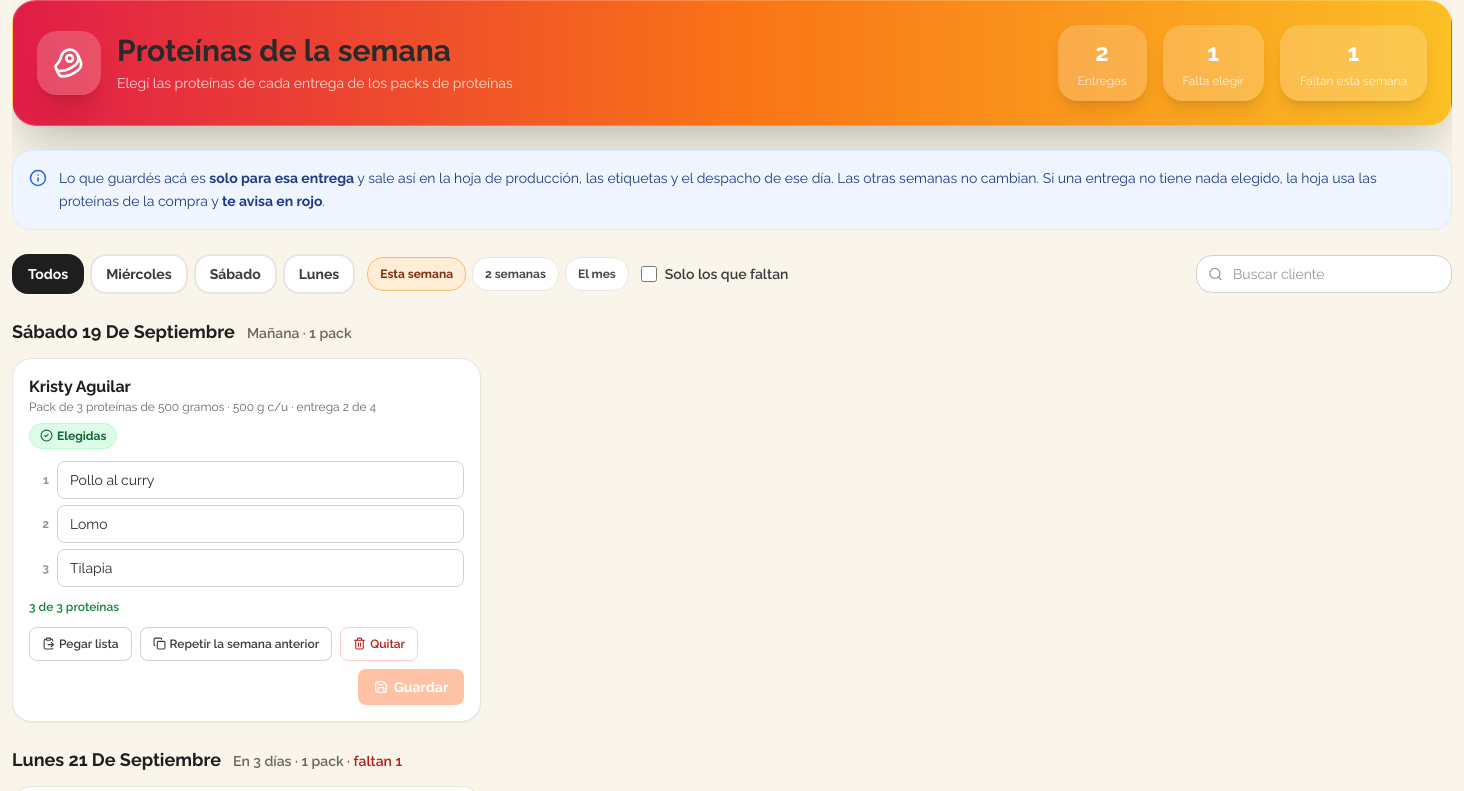
Test case: Proteínas de la semana › si Firestore falla, lo dice en la tarjeta
Click the button "Quitar" at [379, 644], box [340,626,418,660]
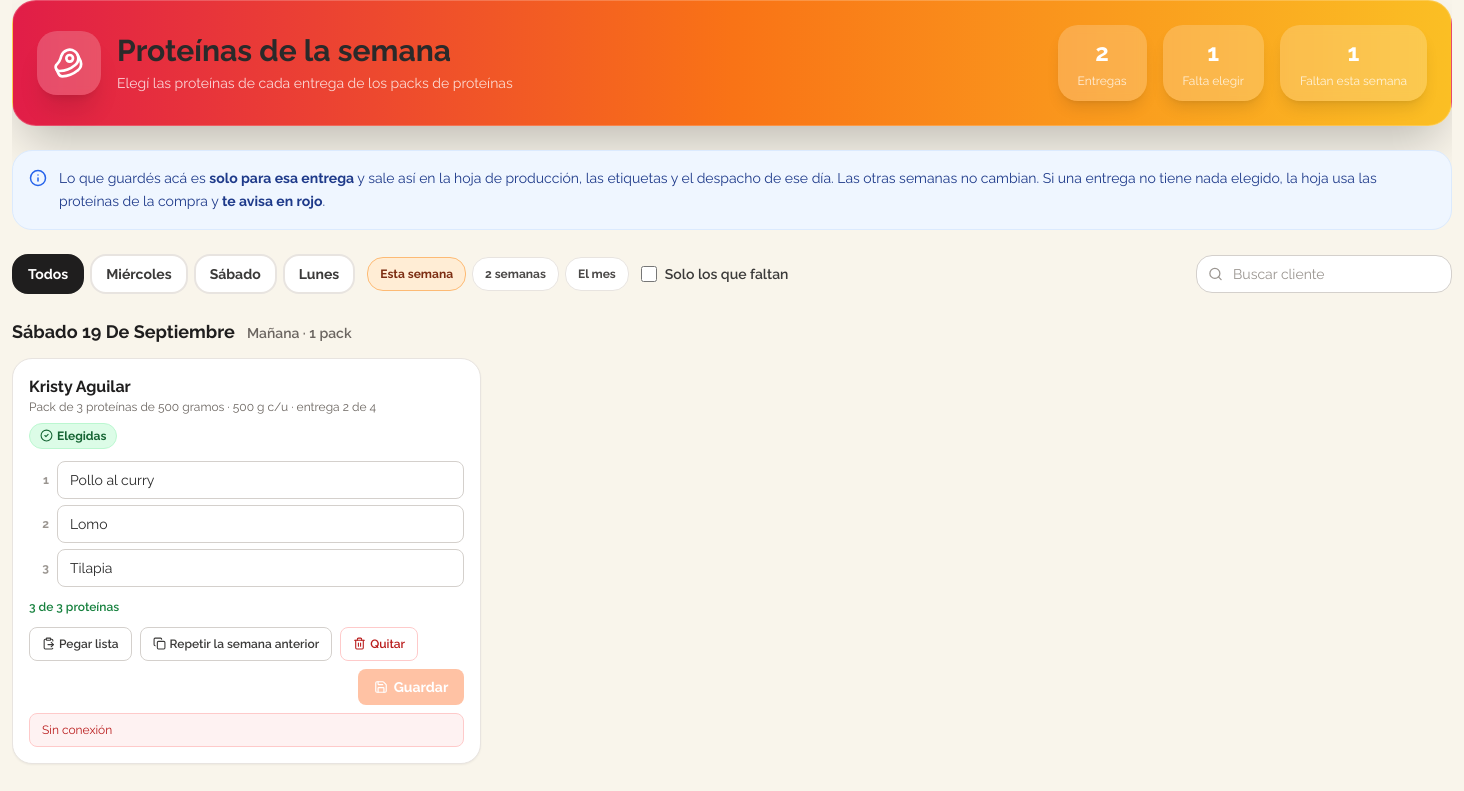
Result: the message reads "Sin conexión" at [42,722,112,736]
